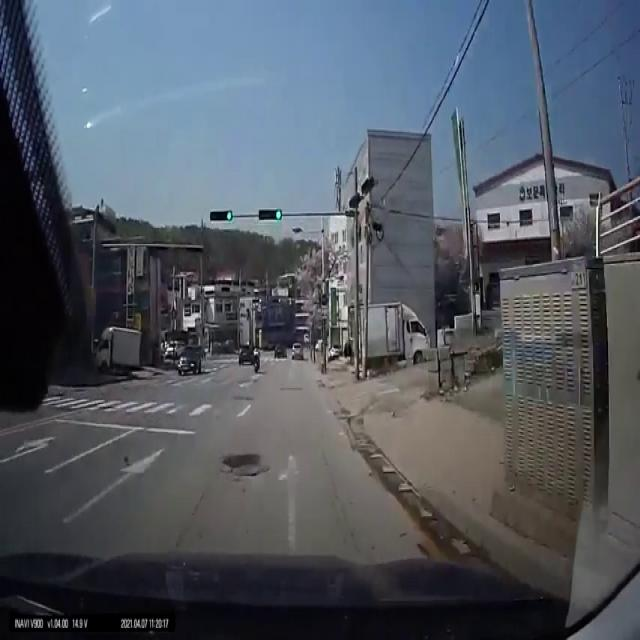Pothole: (220, 449, 264, 471)
